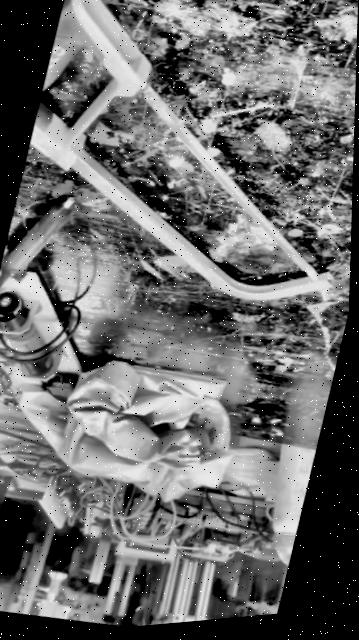pot: (0, 369, 3, 453)
